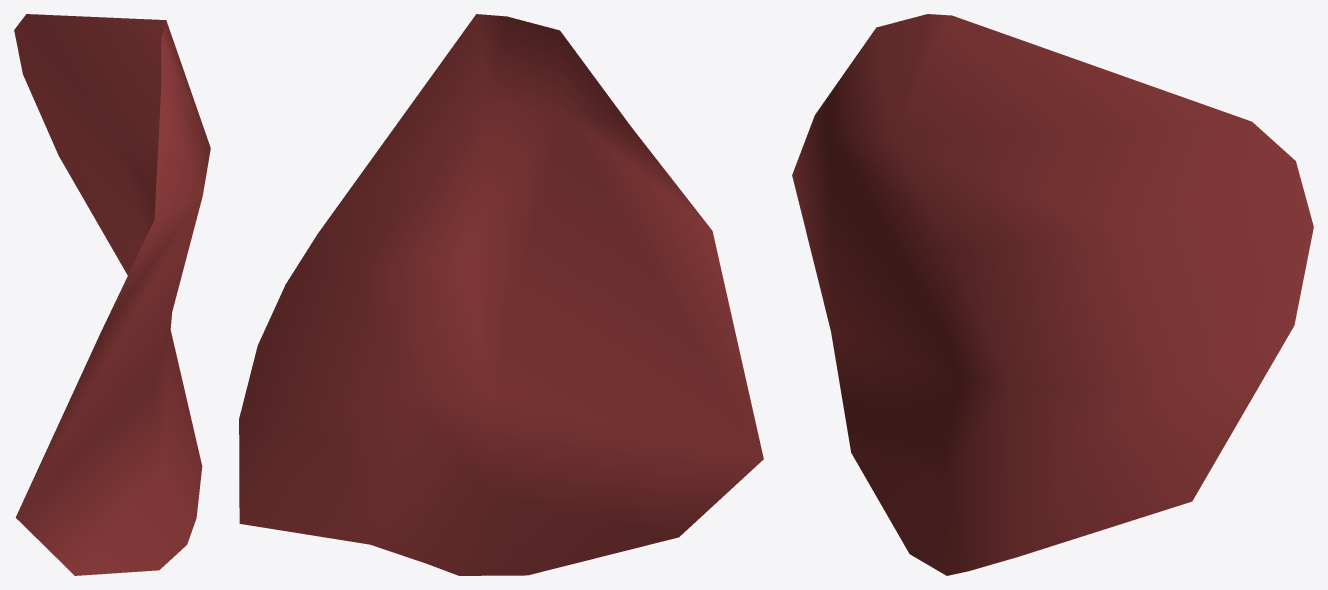
File: brachioradialis-muscle-el.glb
The picture shows the model from 3 angles, left to right: view 1: azimuth 30°, elevation 25°; view 2: azimuth 150°, elevation 25°; view 3: azimuth 270°, elevation 25°; orthographic projection. The views are drawn at different scales.
Visible parts, largest first — view 1: Brachioradialis muscle.el; view 2: Brachioradialis muscle.el; view 3: Brachioradialis muscle.el.
Boxes of the visible parts, x1,y1,x2,y2 form: Brachioradialis muscle.el: (14,14,210,575); Brachioradialis muscle.el: (239,14,763,575); Brachioradialis muscle.el: (792,14,1313,575).
Size of the model in its own units: 0.0064 by 0.0103 by 0.00883.
